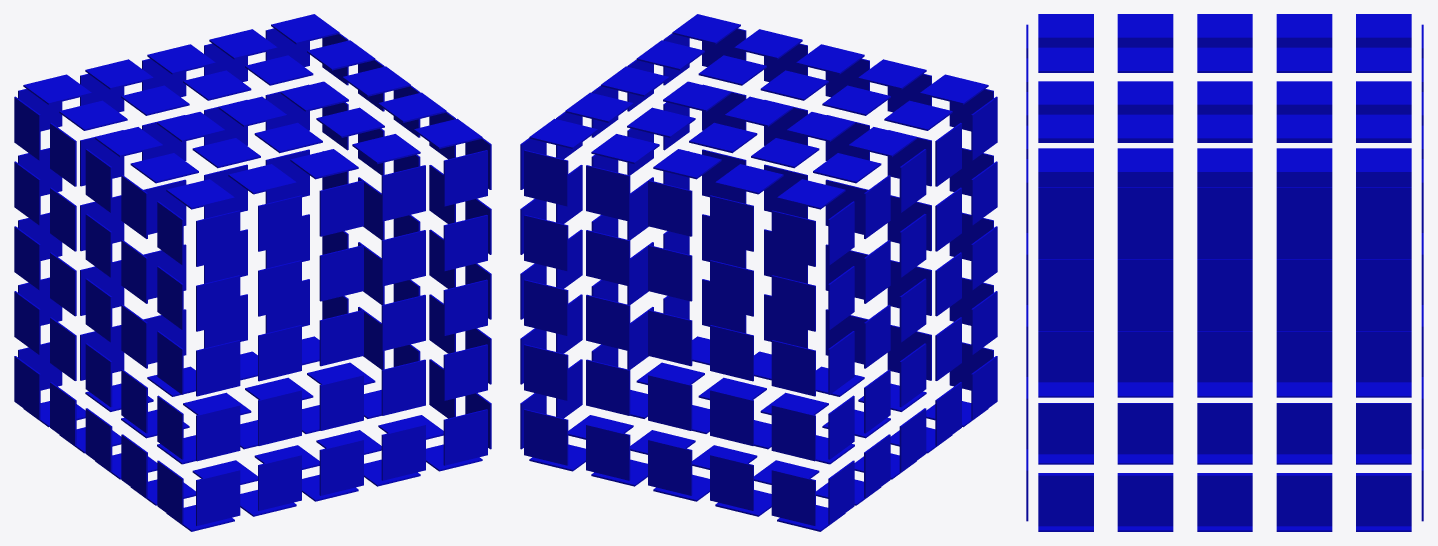
The picture shows the model from 3 angles, left to right: view 1: azimuth 30°, elevation 25°; view 2: azimuth 150°, elevation 25°; view 3: azimuth 270°, elevation 25°; orthographic projection. The views are drawn at different scales.
Visible parts, largest first — view 1: Cube.023; view 2: Cube.023; view 3: Cube.023.
Boxes of the visible parts, x1,y1,x2,y2 form: Cube.023: (14,14,491,531); Cube.023: (520,14,997,531); Cube.023: (1026,14,1423,531).
Bounding box in the file's own units: 200 × 200 × 200.
